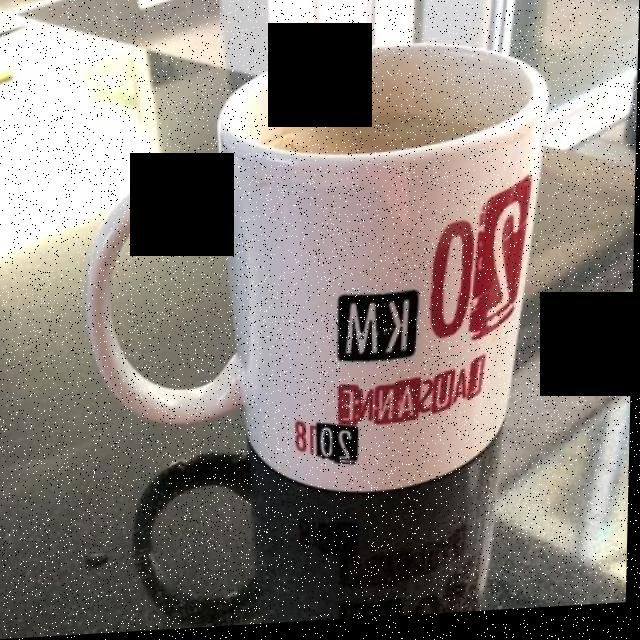coffee-with-caffeine: (259, 110, 505, 169)
